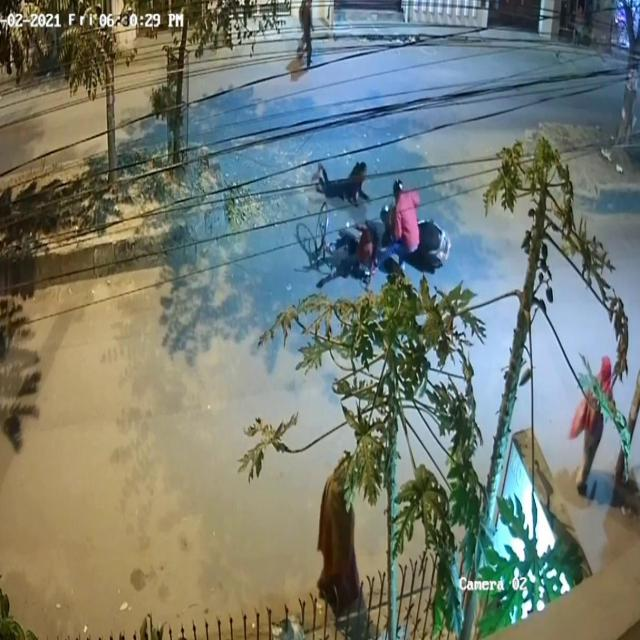accident: (291, 153, 453, 292)
